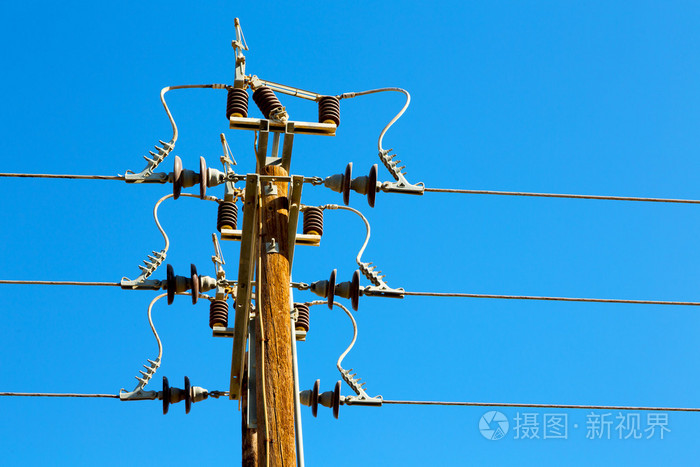insulator: (342, 162, 379, 209), (170, 155, 207, 200), (157, 374, 193, 420), (163, 263, 202, 305), (326, 269, 361, 311), (311, 378, 342, 419)
